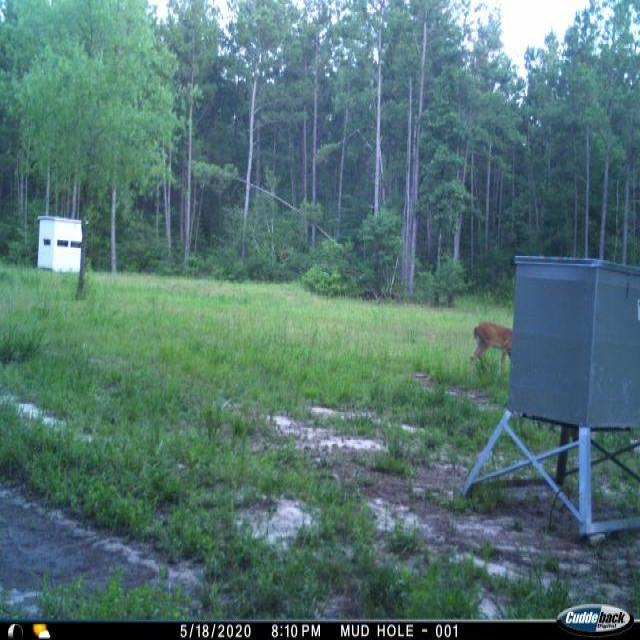deer: (470, 318, 512, 382)
